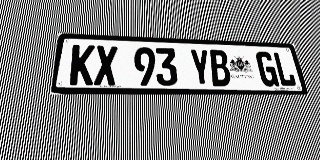3: (155, 48, 178, 86)
9: (134, 47, 156, 86)
B: (208, 50, 232, 86)
G: (255, 51, 280, 87)
K: (69, 45, 95, 85)
L: (272, 52, 297, 87)
X: (94, 45, 117, 85)
Y: (189, 49, 212, 86)
